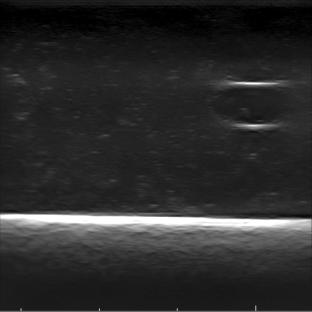vessel: (210, 81, 290, 130)
